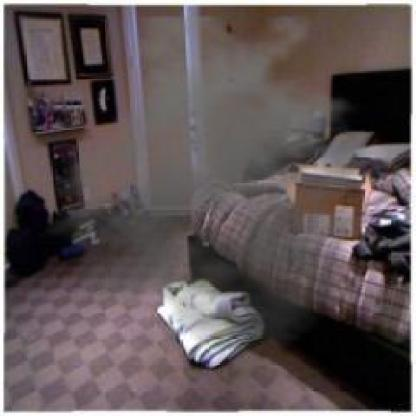Smoke: (45, 16, 413, 351)
